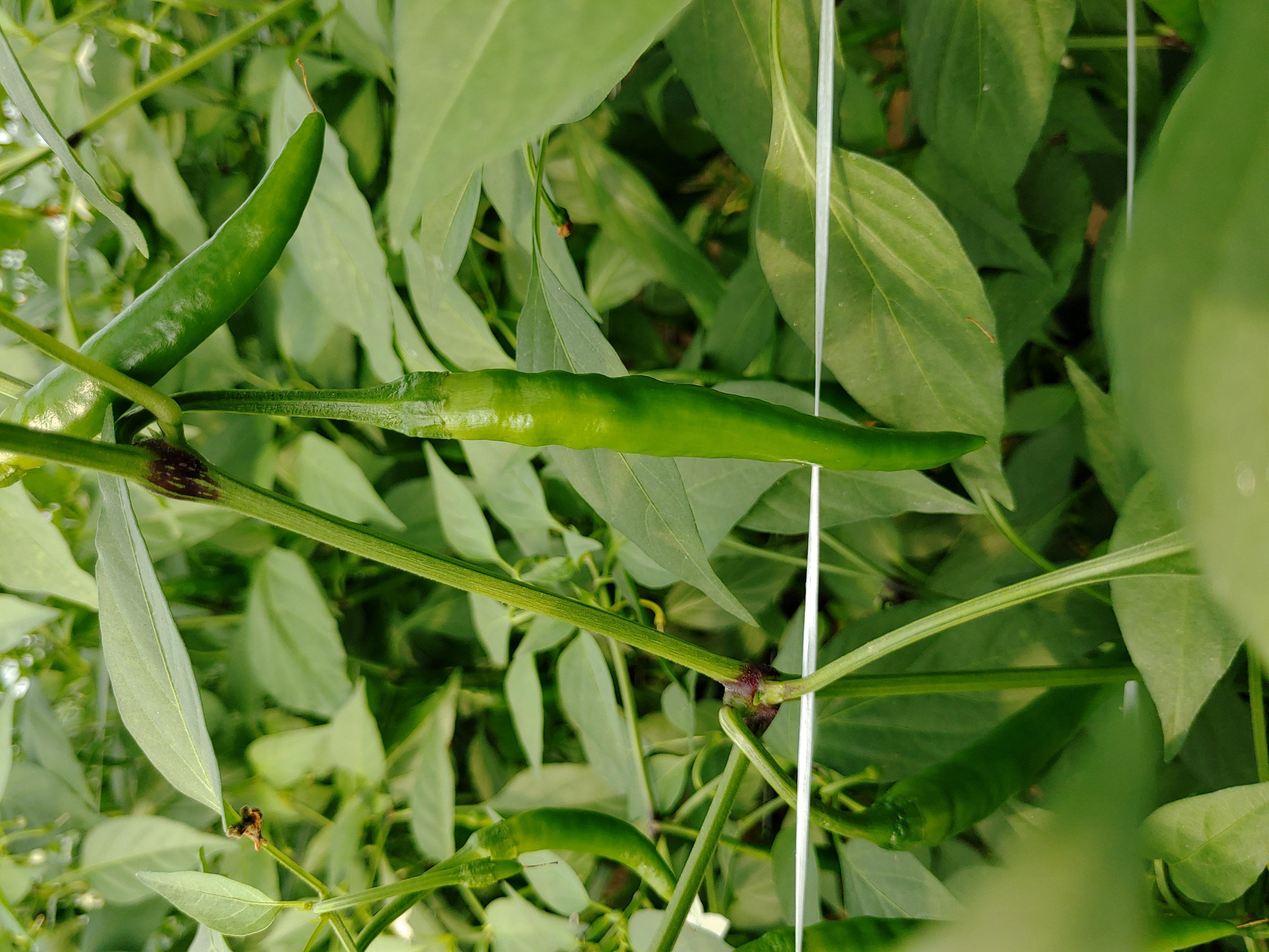Buah Cabai Sehat: (0, 110, 322, 485), (380, 365, 987, 480)
